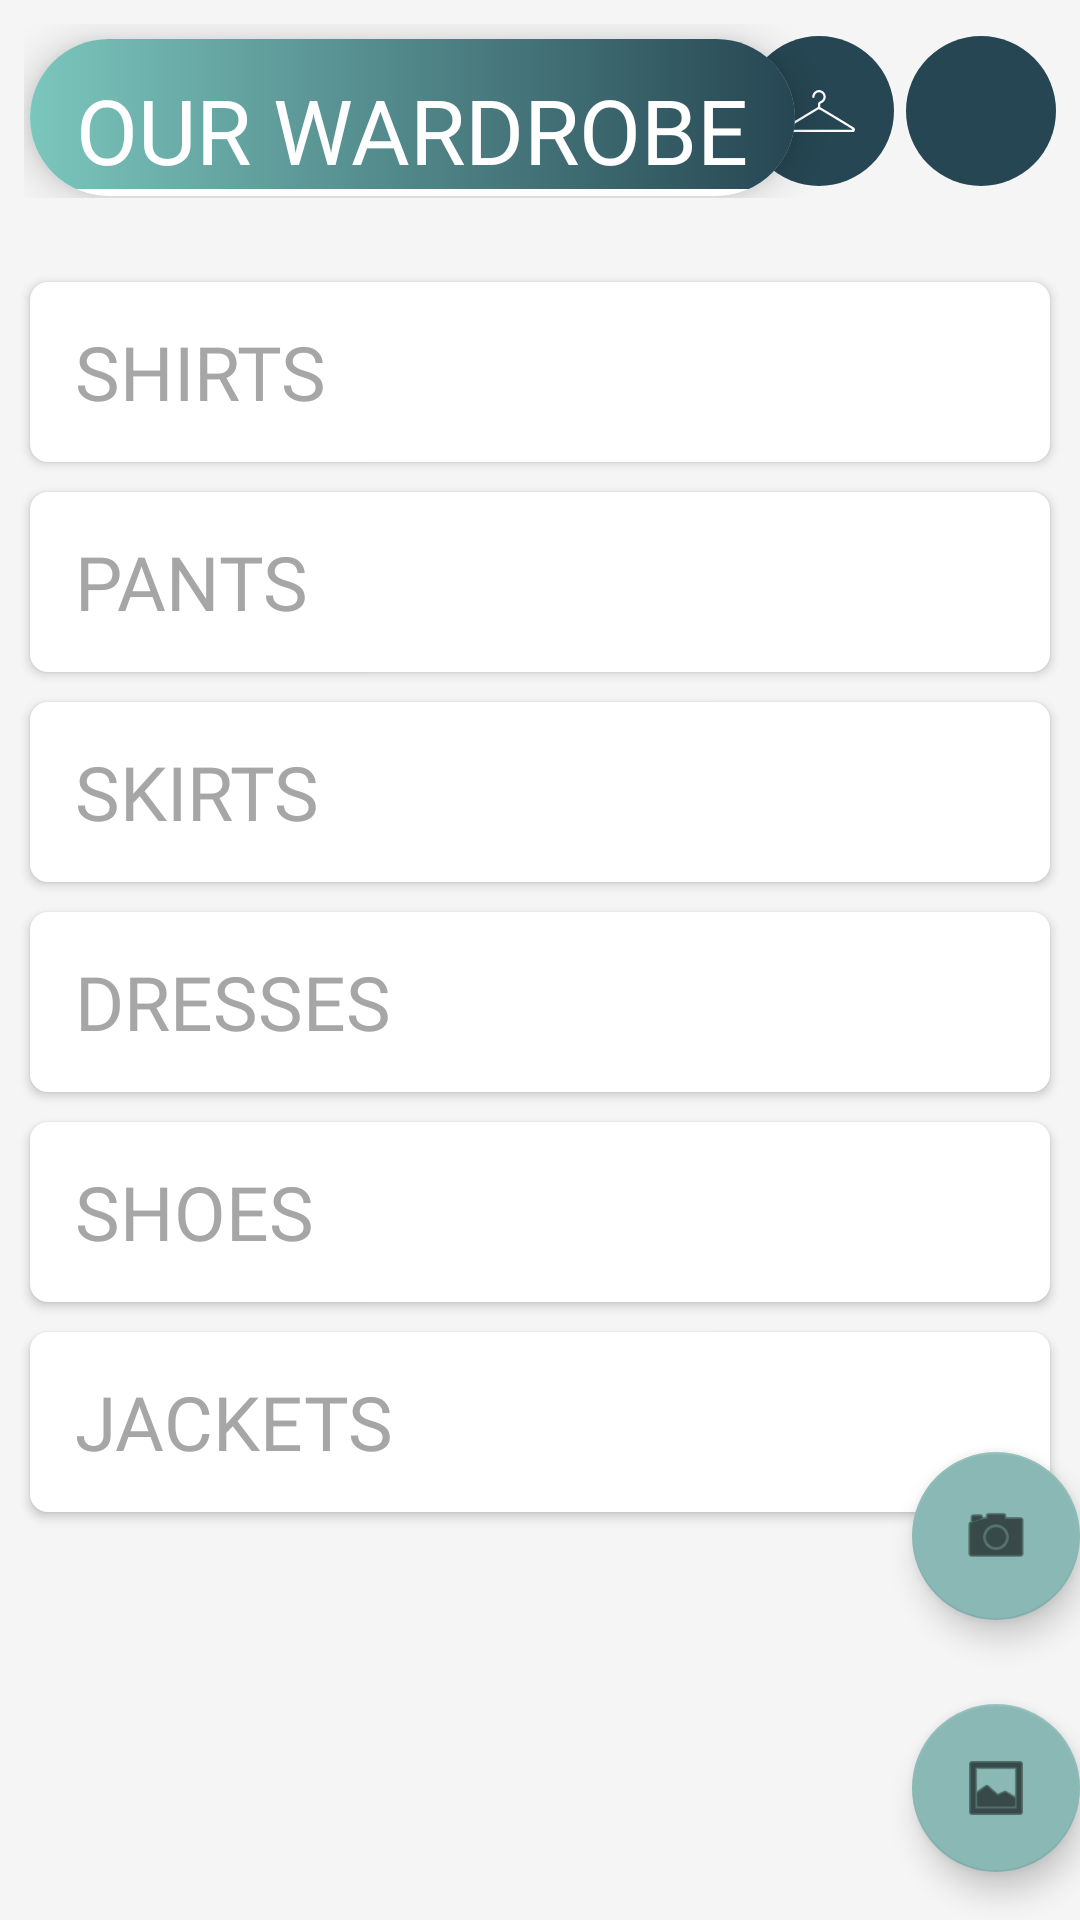

Icons on this 1080 × 1920 Android screen, each with its box as (x1, y1, x2, y2):
camera: (912, 1452, 1080, 1620)
clothes hanger: (744, 36, 894, 186)
gallery: (912, 1704, 1080, 1872)
